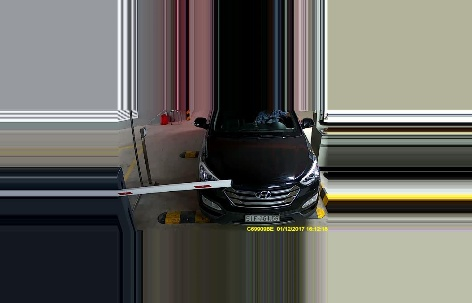plate: (242, 211, 279, 224)
